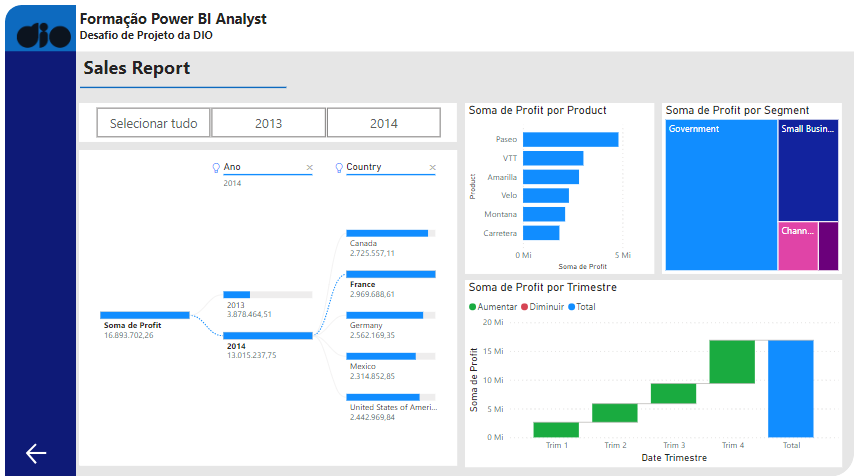

What the dashboard file says about the page in this screenshot:
{"tool":"powerbi","page":{"name":"Página 2","canvas":[1280,720],"ordinal":1},"visuals":[{"type":"shape","box":[26.9,20.2,1241.4,690.4],"z":0},{"type":"shape","box":[25,20,104,691],"z":1000},{"type":"shape","box":[25,20,104,68],"z":2000},{"type":"image","box":[29,20,105,89],"z":3000},{"type":"shape","box":[134,115,302,51],"z":4000},{"type":"textbox","box":[134,88,212,53],"z":5000},{"type":"shape","box":[133.3,233.3,553.3,461.7],"z":6000},{"type":"shape","box":[698.3,423.3,551.7,271.7],"z":7000},{"type":"actionButton","box":[51.7,656.7,48.3,40],"z":8000},{"type":"slicer","fields":{"Values":["financials.Date.Variation.Hierarquia de datas.Ano"]},"box":[133.3,163.3,553.3,56.7],"z":9000},{"type":"textbox","box":[129,20,1139,68],"z":10000},{"type":"shape","box":[986.7,163.3,263.3,250],"z":11000},{"type":"shape","box":[698.3,163.3,276.7,250],"z":12000},{"type":"decompositionTreeVisual","fields":{"ExplainBy":["financials.Date.Variation.Hierarquia de datas.Ano","financials.Country"],"Analyze":["Sum(financials.Profit)"]},"box":[135,233.3,551.7,461.7],"z":13000},{"type":"treemap","fields":{"Values":["Sum(financials.Profit)"],"Group":["financials.Segment"]},"box":[986.3,163.9,263.4,250.2],"z":13001},{"type":"barChart","fields":{"Y":["Sum(financials.Profit)"],"Category":["financials.Product"]},"box":[698,163.9,276.6,250.2],"z":13002},{"type":"waterfallChart","fields":{"Y":["Sum(financials.Profit)"],"Category":["financials.Date.Variation.Hierarquia de datas.Trimestre"]},"box":[698,422.9,551.7,273.7],"z":13003}]}

Visuals, with their boxes on the page's 1280x720 design canvas (x1, y1, x2, y2). These are canvas units, not pixel positions in the 856x476 screenshot, which may show the page scaled, cropped or inside an application window:
shape: bbox=(27, 20, 1268, 711)
shape: bbox=(25, 20, 129, 711)
shape: bbox=(25, 20, 129, 88)
image: bbox=(29, 20, 134, 109)
shape: bbox=(134, 115, 436, 166)
textbox: bbox=(134, 88, 346, 141)
shape: bbox=(133, 233, 687, 695)
shape: bbox=(698, 423, 1250, 695)
actionButton: bbox=(52, 657, 100, 697)
slicer - financials.Date.Variation.Hierarquia de datas.Ano: bbox=(133, 163, 687, 220)
textbox: bbox=(129, 20, 1268, 88)
shape: bbox=(987, 163, 1250, 413)
shape: bbox=(698, 163, 975, 413)
decompositionTreeVisual - financials.Date.Variation.Hierarquia de datas.Ano x financials.Country: bbox=(135, 233, 687, 695)
treemap - Sum(financials.Profit) x financials.Segment: bbox=(986, 164, 1250, 414)
barChart - Sum(financials.Profit) x financials.Product: bbox=(698, 164, 975, 414)
waterfallChart - Sum(financials.Profit) x financials.Date.Variation.Hierarquia de datas.Trimestre: bbox=(698, 423, 1250, 697)
